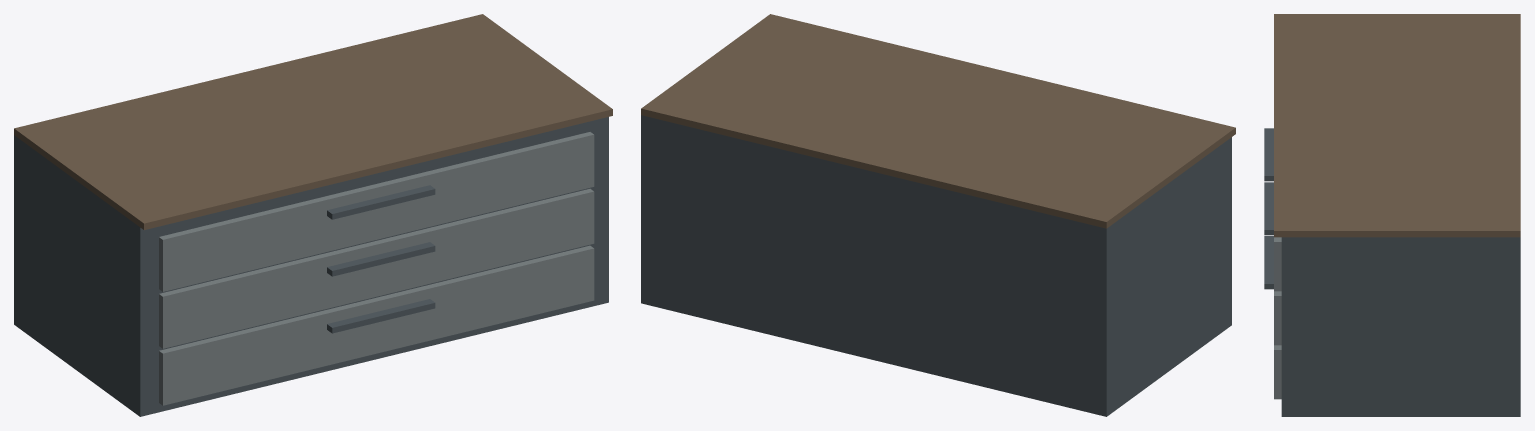
File: tool_chest.glb
3 views of the same model, side by side, from view 1: azimuth 30°, elevation 25°; view 2: azimuth 150°, elevation 25°; view 3: azimuth 270°, elevation 25° (orthographic). The views are drawn at different scales.
Parts seen in each view (by area): view 1: tool_chest; view 2: tool_chest; view 3: tool_chest.
Part boxes in pixels (x1,y1,x2,y2): tool_chest: [14, 14, 612, 416]; tool_chest: [641, 14, 1235, 416]; tool_chest: [1264, 14, 1520, 416].
Size of the model in its own units: 2 by 0.8 by 1.
